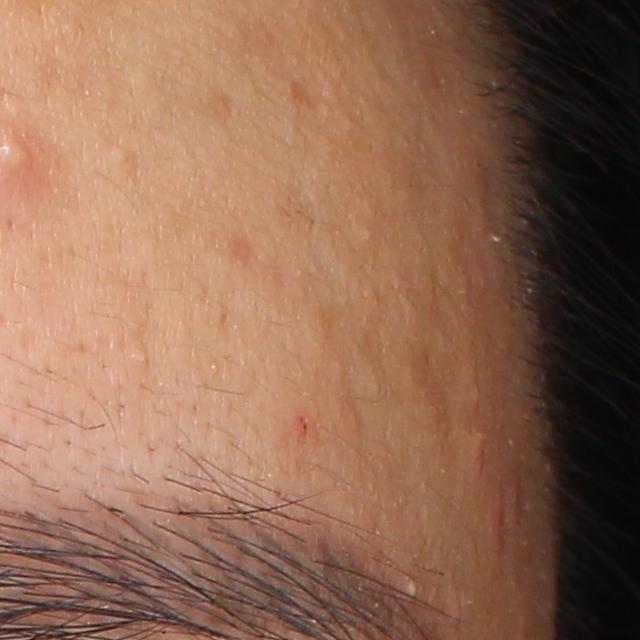pustule: (401, 568, 428, 603)
